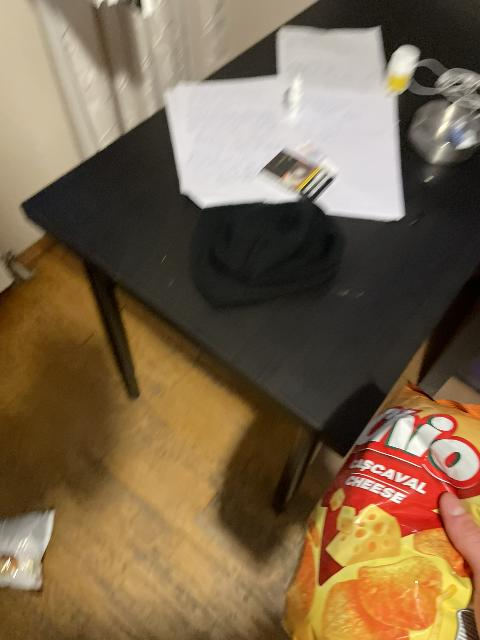Chio Cascaval 125g: (288, 370, 479, 638)
